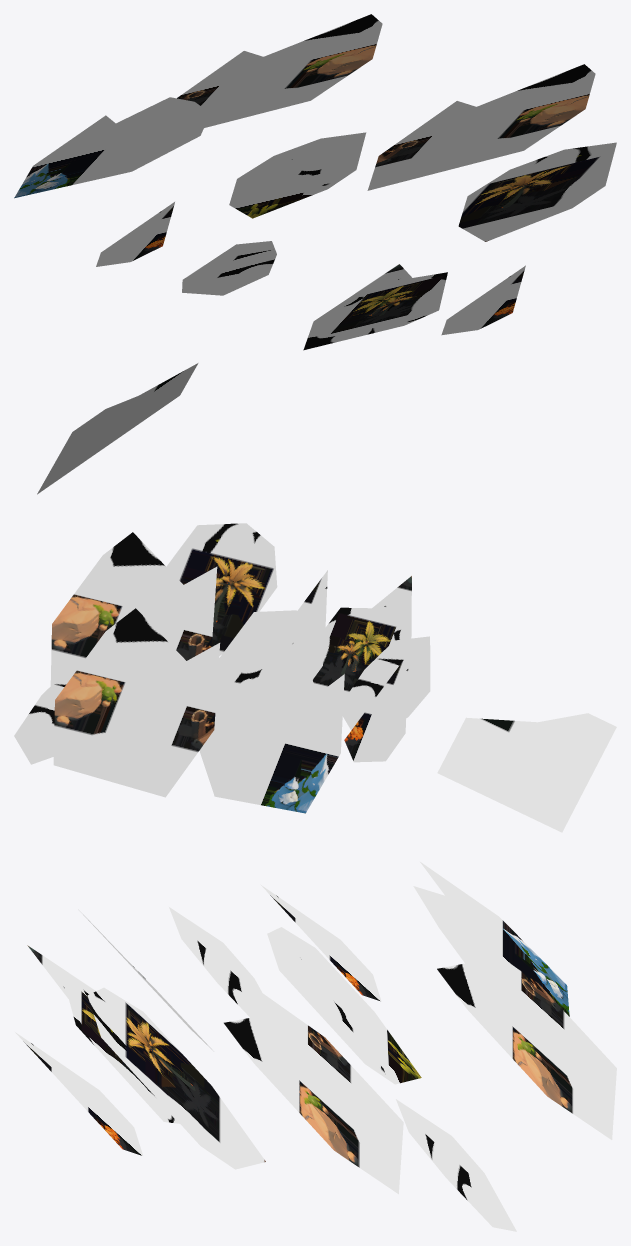
The model's file is ceshi.FBX.
3 views of the same model, one above another, from view 1: azimuth 30°, elevation 25°; view 2: azimuth 150°, elevation 25°; view 3: azimuth 270°, elevation 25° (orthographic). The views are drawn at different scales.
Parts seen in each view (by area): view 1: Grove_M__0004_4c03_8656_5615b3e455b1_adorning_0; view 2: Grove_M__0004_4c03_8656_5615b3e455b1_adorning_0; view 3: Grove_M__0004_4c03_8656_5615b3e455b1_adorning_0.
Part boxes in pixels (x1=…): Grove_M__0004_4c03_8656_5615b3e455b1_adorning_0: x1=14, y1=14, x2=616, y2=494; Grove_M__0004_4c03_8656_5615b3e455b1_adorning_0: x1=14, y1=523, x2=616, y2=832; Grove_M__0004_4c03_8656_5615b3e455b1_adorning_0: x1=15, y1=862, x2=616, y2=1231.
Bounding box in the file's own units: 15.49 × 6.51 × 12.41.
